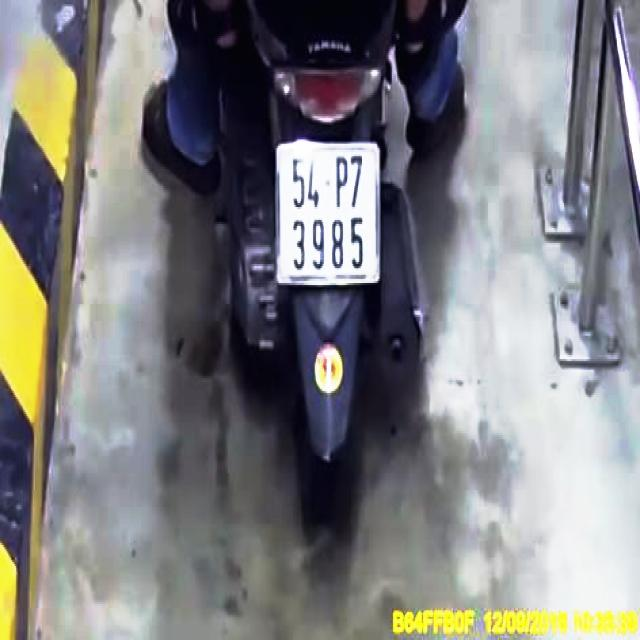license_plate: (278, 144, 380, 283)
